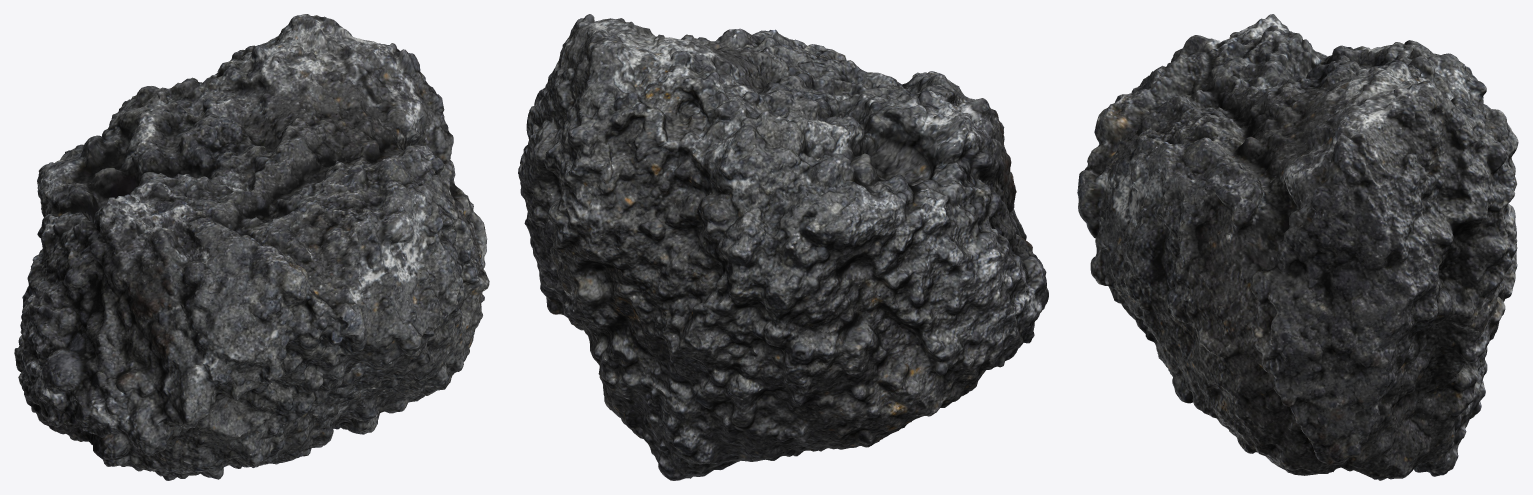
The model's file is meteorite.glb.
The picture shows the model from 3 angles, left to right: view 1: azimuth 30°, elevation 25°; view 2: azimuth 150°, elevation 25°; view 3: azimuth 270°, elevation 25°; orthographic projection. The views are drawn at different scales.
Parts seen in each view (by area): view 1: MIL15307-0_SFM_Web-Resolution-Model_Coordinate-Unregistered.; view 2: MIL15307-0_SFM_Web-Resolution-Model_Coordinate-Unregistered.; view 3: MIL15307-0_SFM_Web-Resolution-Model_Coordinate-Unregistered..
Boxes of the visible parts, x1=… form: MIL15307-0_SFM_Web-Resolution-Model_Coordinate-Unregistered.: x1=14, y1=14, x2=489, y2=480; MIL15307-0_SFM_Web-Resolution-Model_Coordinate-Unregistered.: x1=518, y1=14, x2=1048, y2=480; MIL15307-0_SFM_Web-Resolution-Model_Coordinate-Unregistered.: x1=1077, y1=14, x2=1518, y2=480.
Size of the model in its own units: 0.0364 by 0.031 by 0.029.
1 material, 1 textured.
